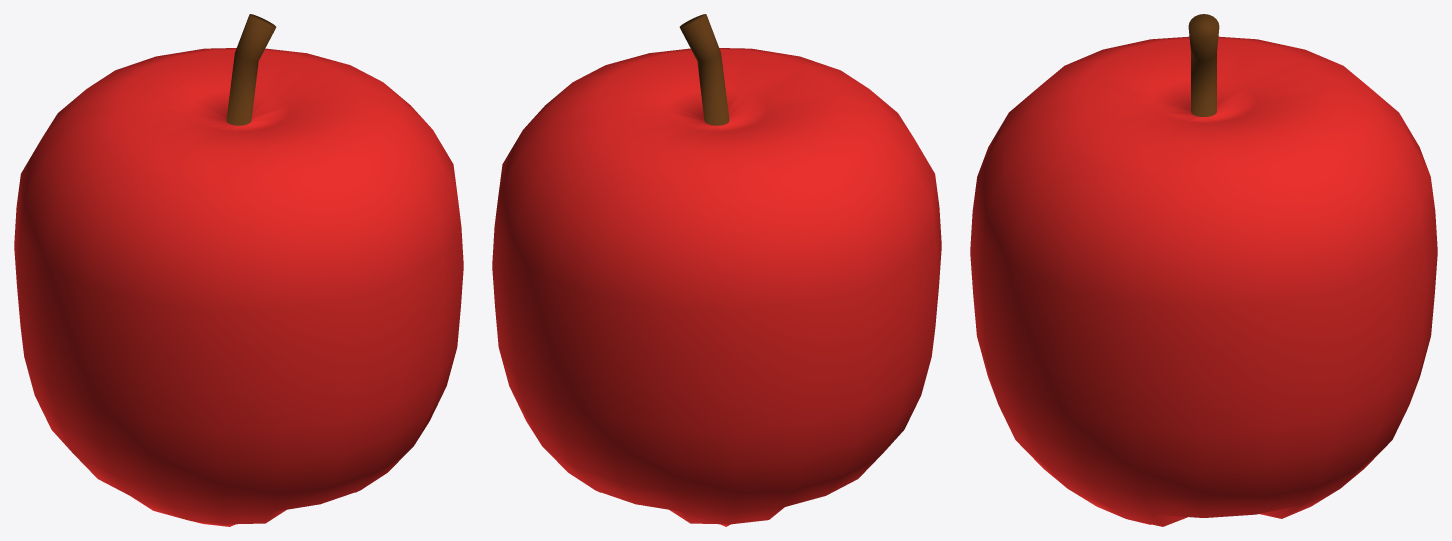
File: Apple.glb
3 views of the same model, side by side, from view 1: azimuth 30°, elevation 25°; view 2: azimuth 150°, elevation 25°; view 3: azimuth 270°, elevation 25° (orthographic). The views are drawn at different scales.
Visible parts, largest first — view 1: Apple; view 2: Apple; view 3: Apple.
Part boxes in pixels (<box>): Apple: <box>14,14,463,526</box>; Apple: <box>492,14,941,526</box>; Apple: <box>970,14,1437,526</box>.
Size of the model in its own units: 0.1687 by 0.1935 by 0.1687.
